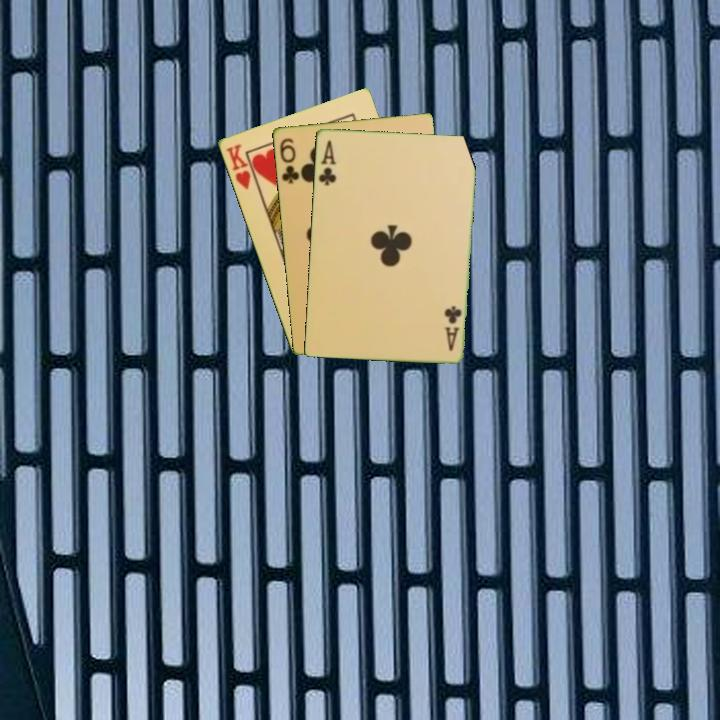6c: (276, 134, 302, 186)
Ac: (315, 136, 339, 188), (440, 302, 464, 353)
Kh: (222, 140, 260, 192)
